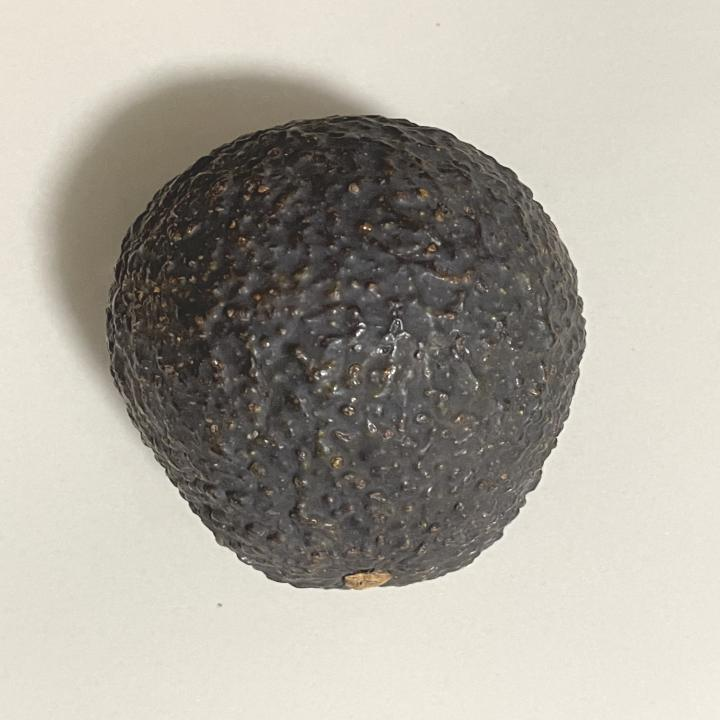Level2: (95, 106, 595, 598)
